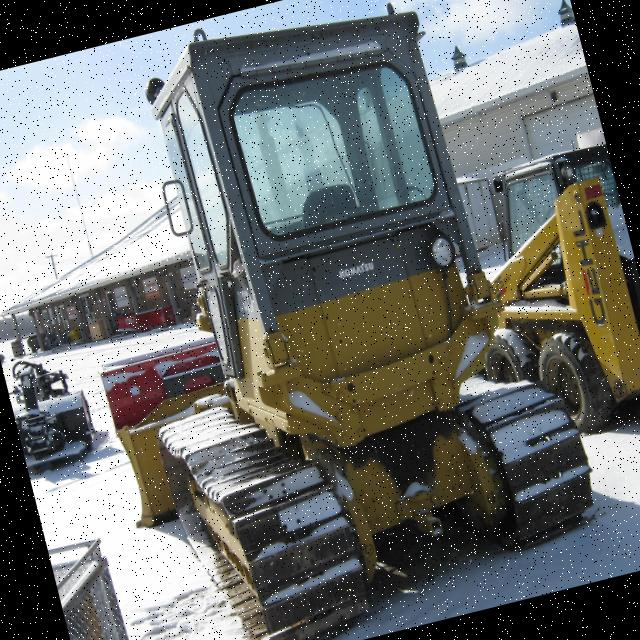Bulldozer: (11, 0, 635, 640)
